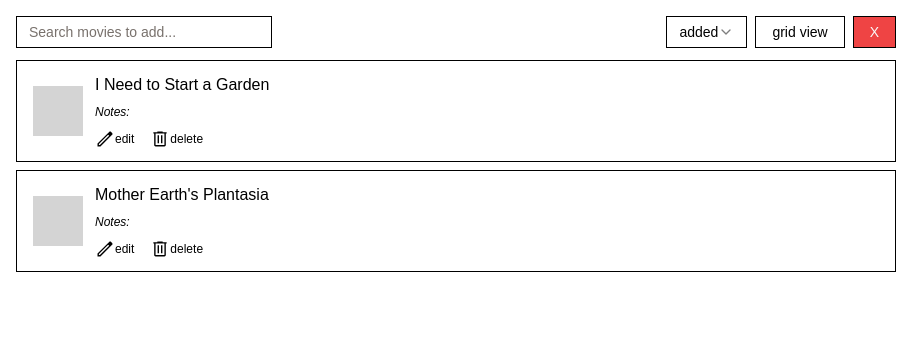
ListContainer › can edit item
Expected: the text "I Need to Start a Garden" is shown, x1=95 y1=76 x2=269 y2=93
Expected: the text "Mother Earth's Plantasia" is shown, x1=95 y1=186 x2=269 y2=203
Click the button "edit" below "I Need to Start a Garden".
click(115, 139)  # box x1=95 y1=129 x2=134 y2=149
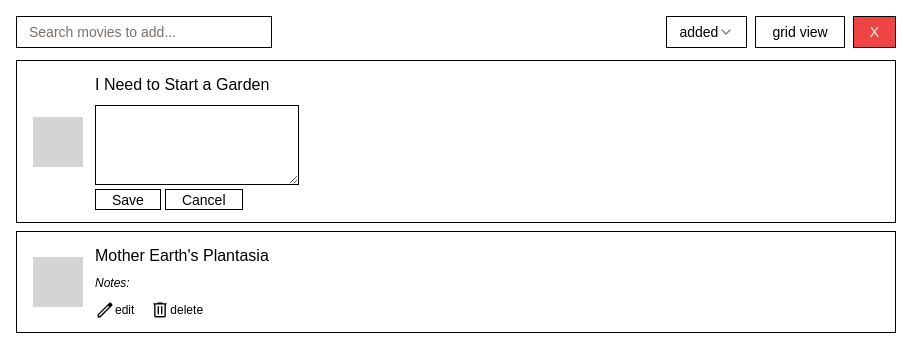
Expected: the text box is shown
Type "Hello, World!" into the text box.
click(197, 145); type("Hello, World!")  # box x1=95 y1=105 x2=299 y2=185
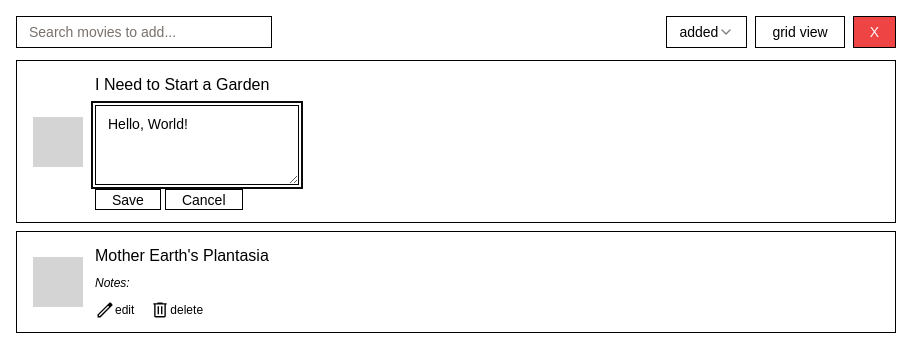
Expected: the button "Save" is shown
Click the button "Save".
click(128, 200)  # box x1=95 y1=189 x2=161 y2=210
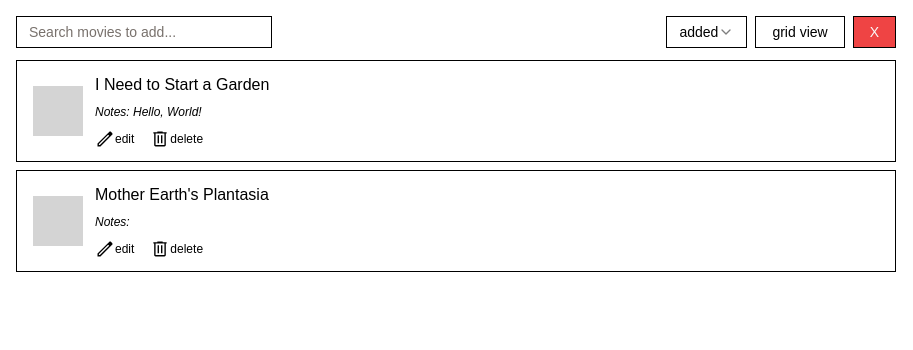
Expected: the text "Notes: Hello, World!" is shown, x1=95 y1=105 x2=202 y2=119
